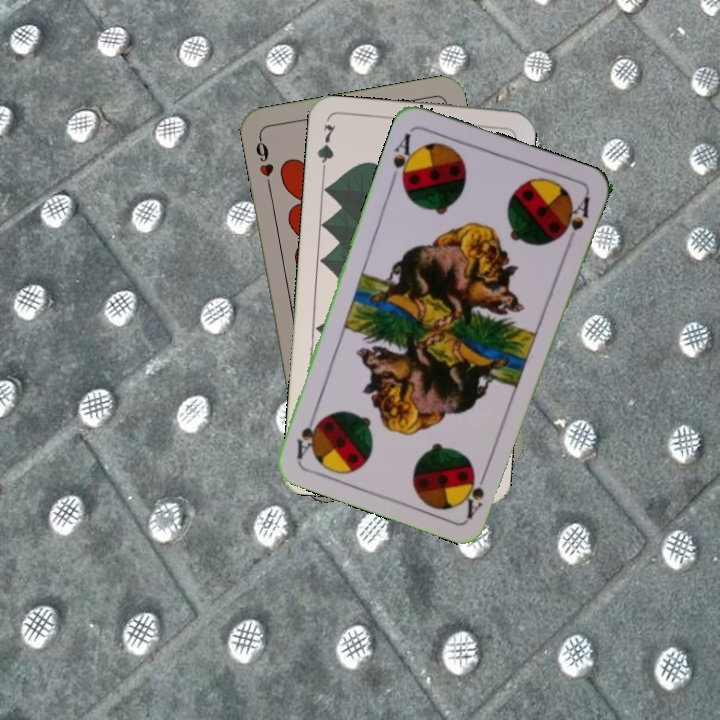G7: (313, 120, 338, 179)
H9: (251, 132, 276, 191)
SA: (388, 128, 419, 188), (463, 463, 491, 521)
